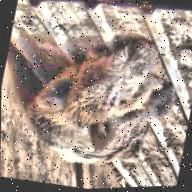boar: (5, 28, 190, 192)
